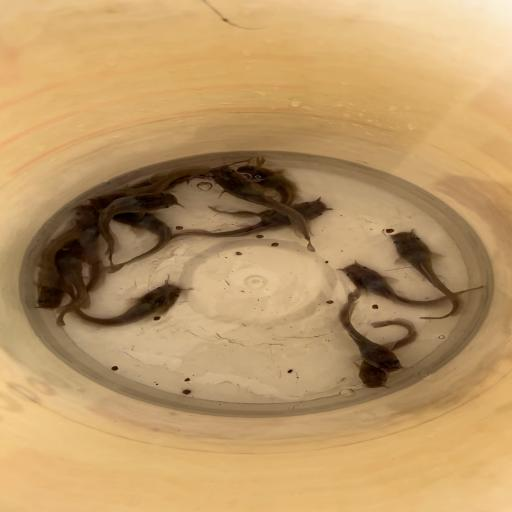lele: (204, 167, 317, 252), (167, 197, 333, 240), (338, 262, 485, 309), (387, 230, 462, 320), (97, 192, 180, 267), (64, 281, 185, 329), (336, 288, 403, 372), (88, 165, 209, 210), (128, 159, 249, 198), (208, 164, 298, 216), (103, 212, 172, 274), (358, 318, 418, 388), (36, 222, 79, 310), (71, 204, 107, 292), (54, 243, 88, 328)
